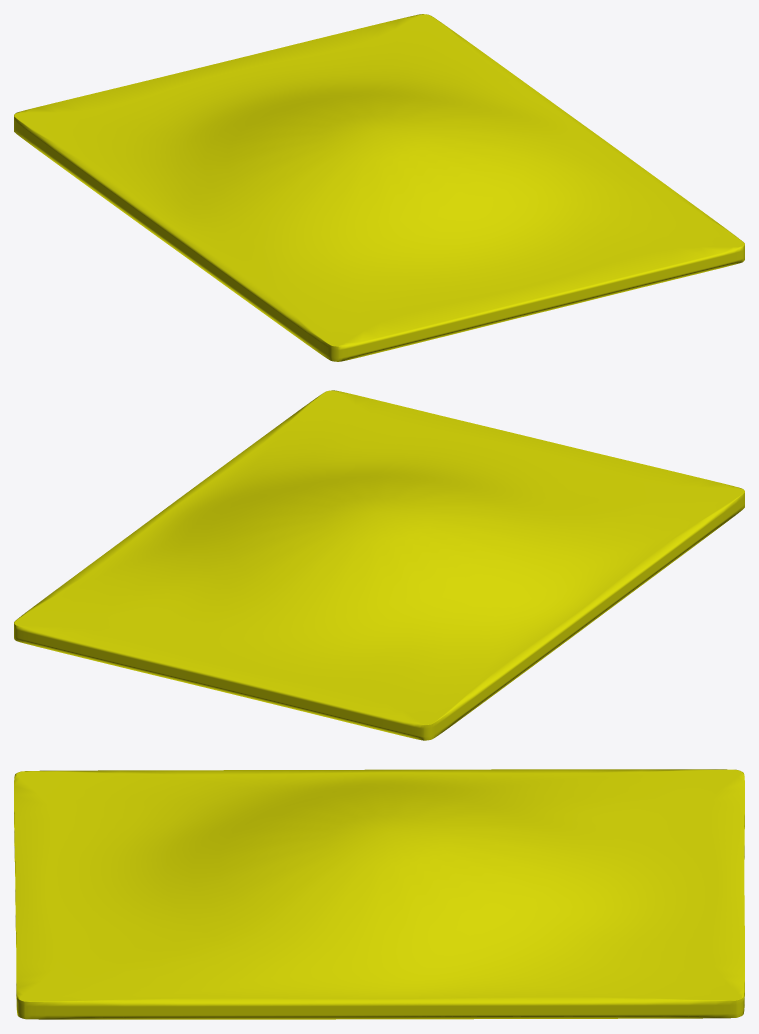
The model's file is Roofing_Type_11.fbx.
The picture shows the model from 3 angles, top to bottom: view 1: azimuth 30°, elevation 25°; view 2: azimuth 150°, elevation 25°; view 3: azimuth 270°, elevation 25°; orthographic projection. The views are drawn at different scales.
Parts seen in each view (by area): view 1: Roofing_Type_11; view 2: Roofing_Type_11; view 3: Roofing_Type_11.
Boxes of the visible parts, x1=… form: Roofing_Type_11: x1=14, y1=14, x2=744, y2=361; Roofing_Type_11: x1=14, y1=390, x2=744, y2=740; Roofing_Type_11: x1=14, y1=769, x2=744, y2=1019.
Size of the model in its own units: 3510 by 498 by 4653.
